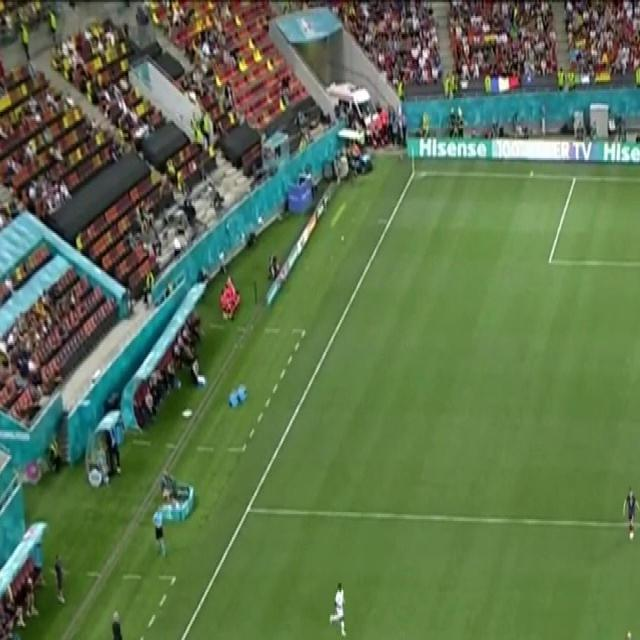ball: (629, 530, 635, 543)
player-white: (150, 500, 167, 564), (623, 484, 640, 546), (328, 579, 345, 640), (621, 627, 636, 640), (273, 634, 289, 640)
